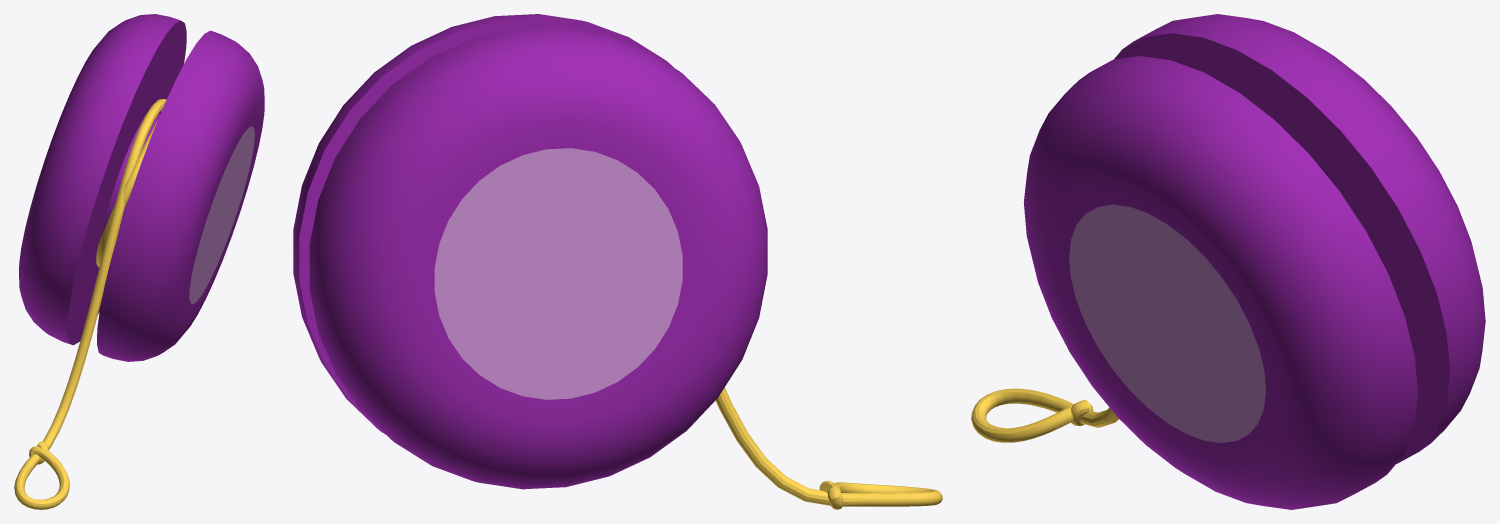
The model's file is yoyo.glb.
3 renders of one model, left to right at view 1: azimuth 30°, elevation 25°; view 2: azimuth 150°, elevation 25°; view 3: azimuth 270°, elevation 25°, orthographic. The views are drawn at different scales.
Parts seen in each view (by area): view 1: Cylinder.481; view 2: Cylinder.481; view 3: Cylinder.481.
Boxes of the visible parts, box(x1,y1,x2,y2) form: Cylinder.481: box(14, 14, 264, 509); Cylinder.481: box(293, 14, 942, 509); Cylinder.481: box(971, 14, 1485, 509).
Size of the model in its own units: 2.05 by 2.04 by 1.79.
1 material, 1 textured.
